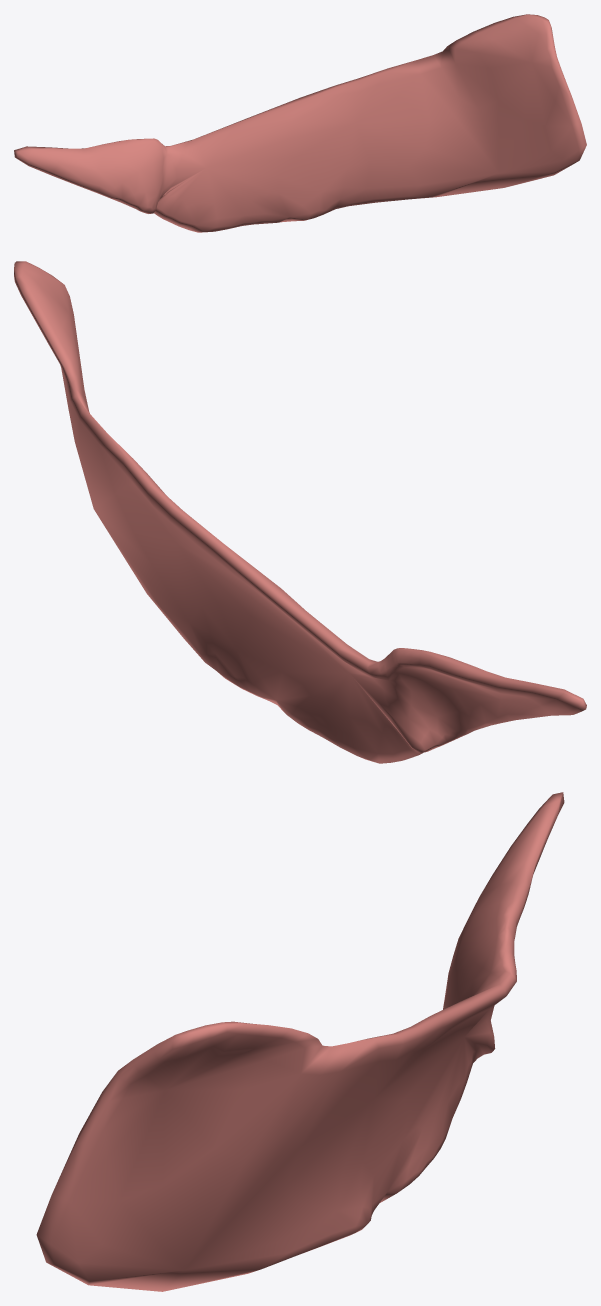
3 views of the same model, one above another, from view 1: azimuth 30°, elevation 25°; view 2: azimuth 150°, elevation 25°; view 3: azimuth 270°, elevation 25° (orthographic). The views are drawn at different scales.
Parts seen in each view (by area): view 1: ZA_ab69c8f4b983fc90; view 2: ZA_ab69c8f4b983fc90; view 3: ZA_ab69c8f4b983fc90.
Boxes of the visible parts, x1,y1,x2,y2 form: ZA_ab69c8f4b983fc90: (14, 14, 586, 232); ZA_ab69c8f4b983fc90: (14, 261, 586, 763); ZA_ab69c8f4b983fc90: (36, 792, 564, 1291).
Size of the model in its own units: 0.0227 by 0.00944 by 0.0117.
